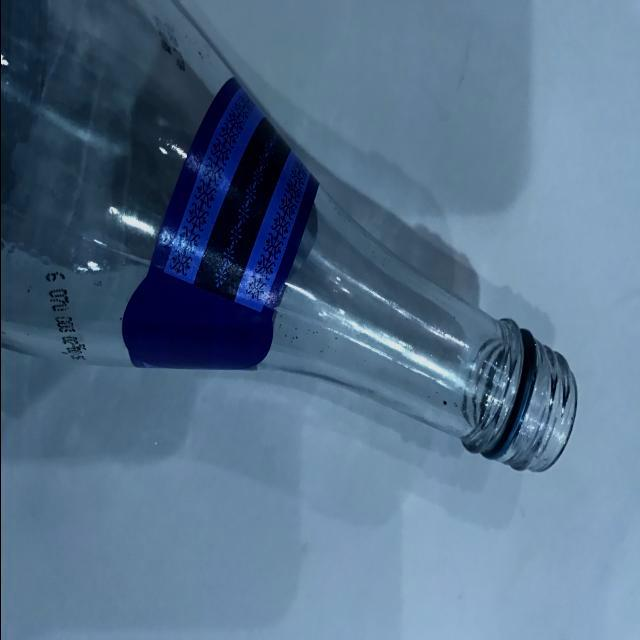glass: (0, 0, 588, 498)
